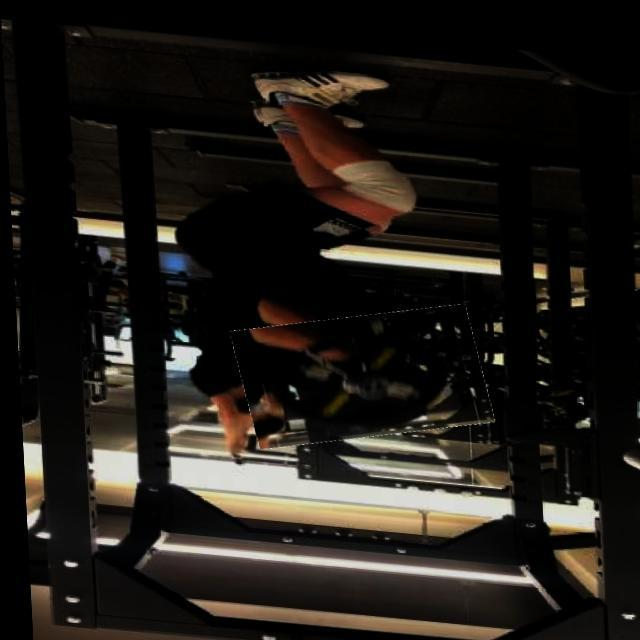barbell: (230, 290, 489, 450)
